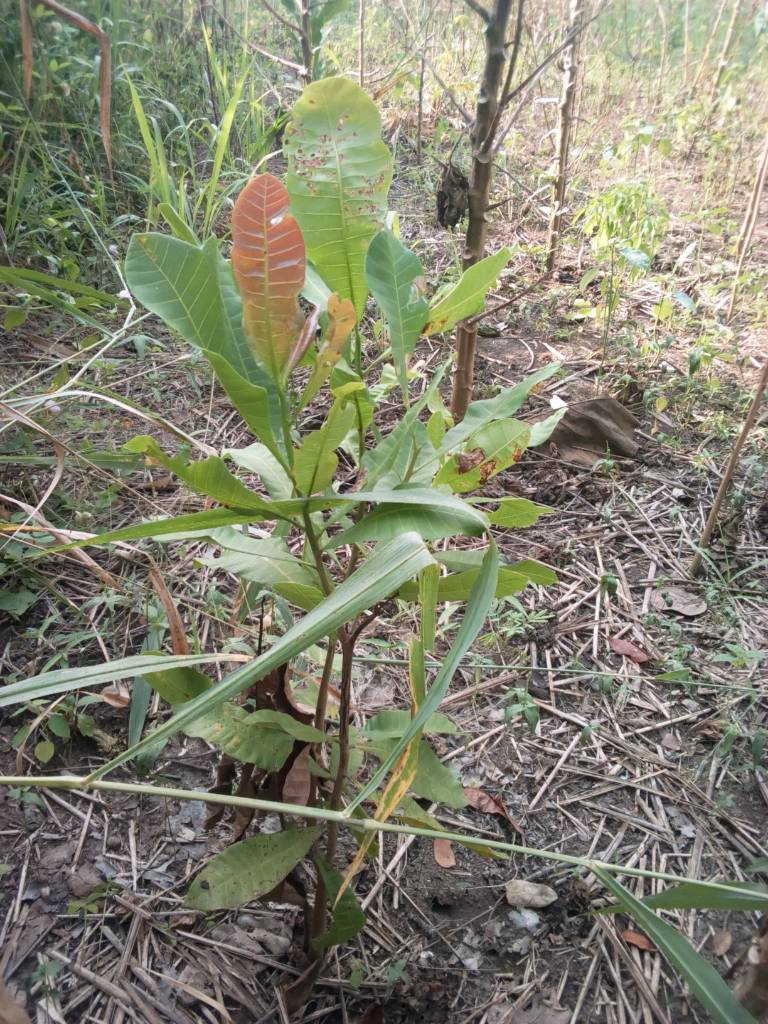Dysdercus wolkerii: (429, 411, 540, 488)
